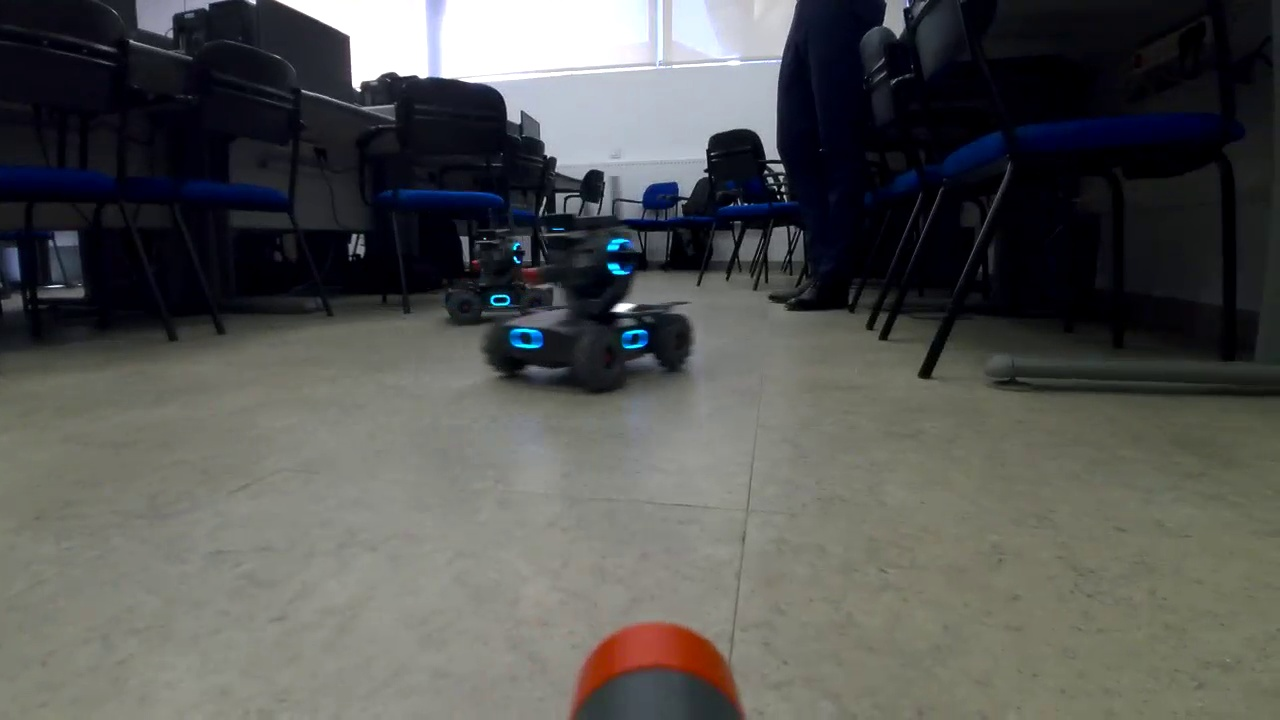robot: (482, 222, 700, 400), (446, 224, 561, 331)
